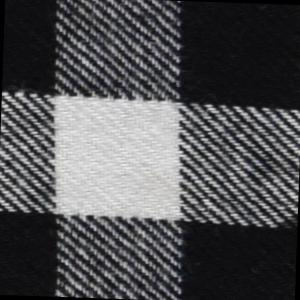Stain: (244, 151, 287, 190), (274, 208, 299, 241)
